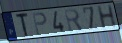4: (52, 9, 66, 34)
7: (81, 6, 96, 32)
H: (96, 4, 118, 31)
P: (31, 11, 48, 36)
R: (63, 8, 85, 34)
T: (15, 12, 30, 39)
